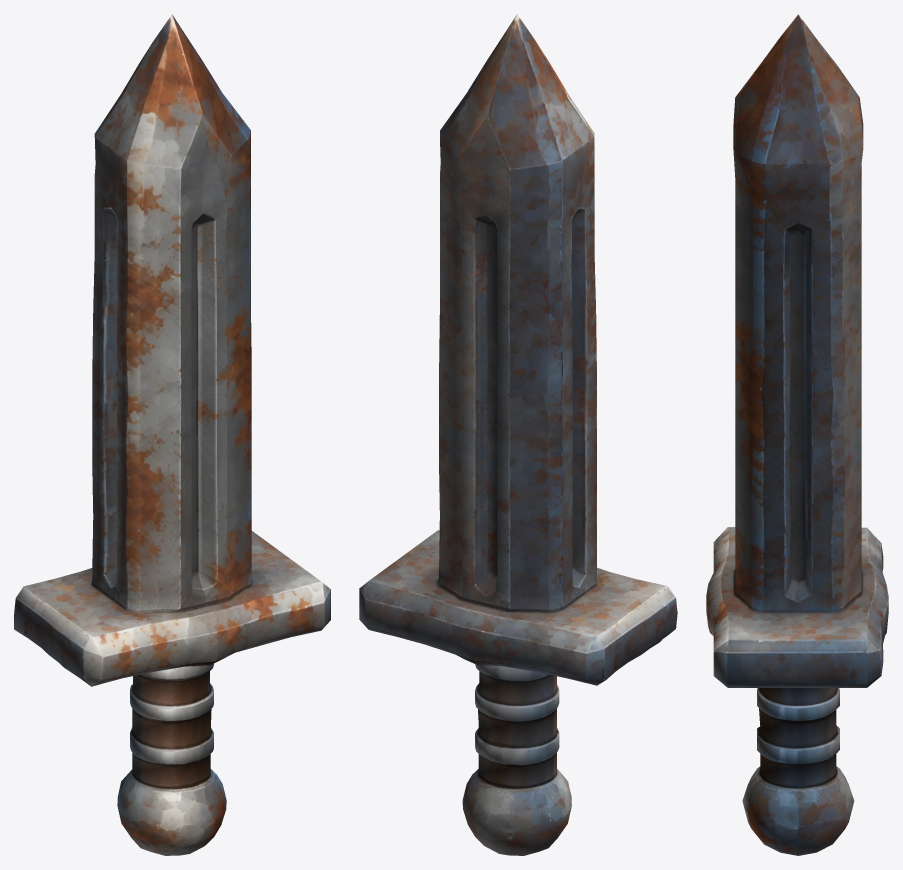
File: w_rusty.glb
3 views of the same model, side by side, from view 1: azimuth 30°, elevation 25°; view 2: azimuth 150°, elevation 25°; view 3: azimuth 270°, elevation 25° (orthographic).
Parts seen in each view (by area): view 1: Weapon; view 2: Weapon; view 3: Weapon.
Boxes of the visible parts, x1=… form: Weapon: x1=14, y1=14, x2=330, y2=855; Weapon: x1=359, y1=14, x2=677, y2=855; Weapon: x1=706, y1=14, x2=888, y2=855.
Size of the model in its own units: 0.3048 by 0.9796 by 0.1936.
Materials: 1 (1 with a texture image).
